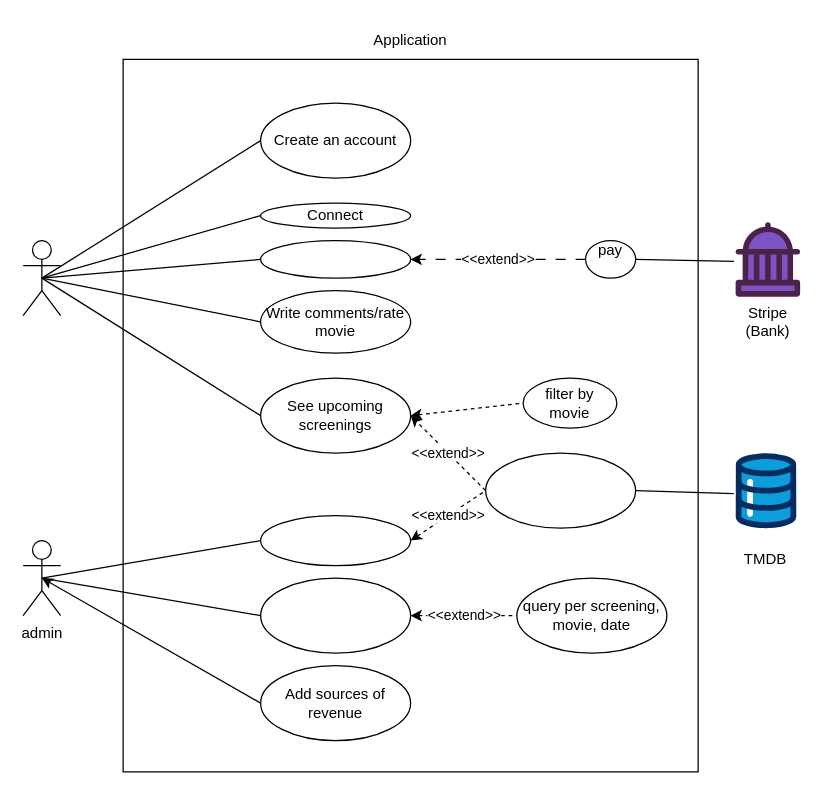
Image size: 828x794. Some labels were removed from this diagram. Each missing label, with the centre of its shape:
"Book a ticket" belongs at pixel 335 258.
"client" belongs at pixel 41 277.
"Schedule movies" belongs at pixel 335 540.
"See accounting details" belongs at pixel 335 615.
"See informations about movies" belongs at pixel 560 490.
